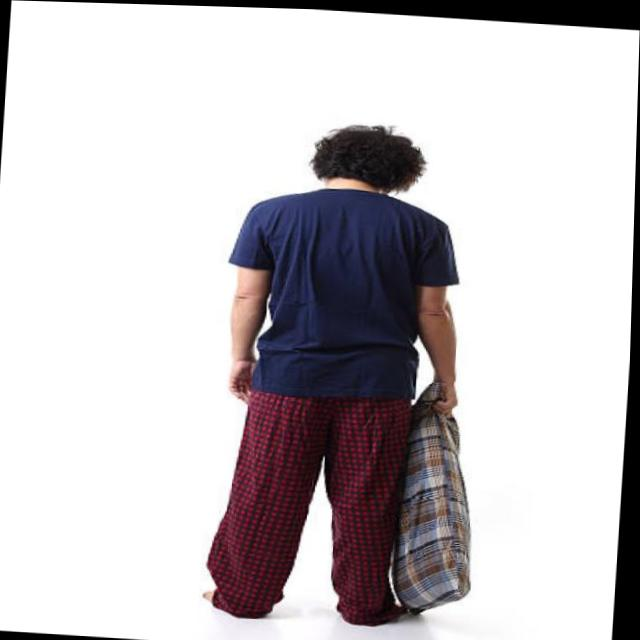no helmet: (301, 104, 439, 203)
